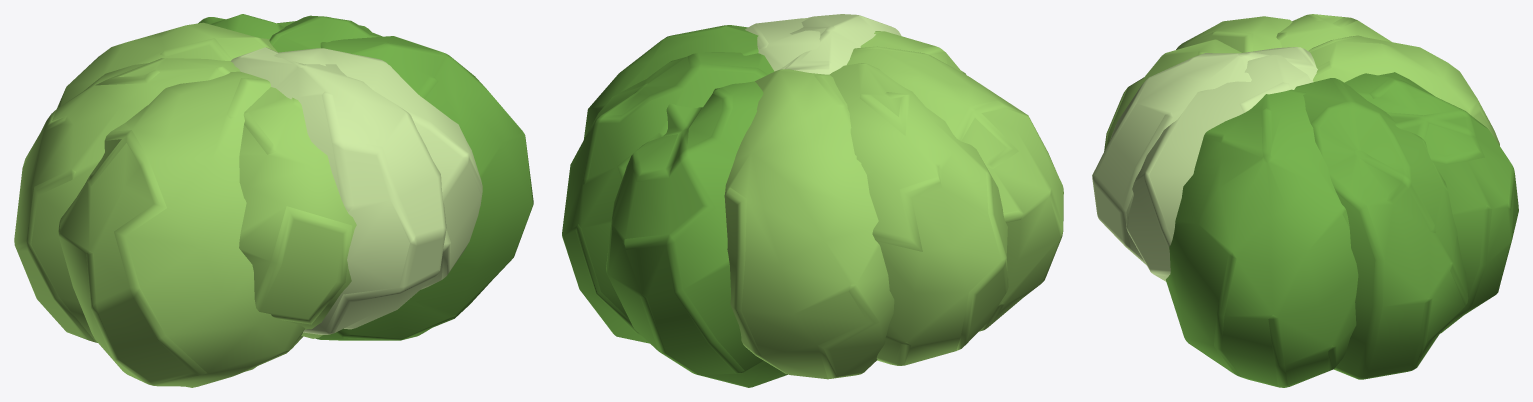
File: Lettuce.glb
3 views of the same model, side by side, from view 1: azimuth 30°, elevation 25°; view 2: azimuth 150°, elevation 25°; view 3: azimuth 270°, elevation 25° (orthographic). The views are drawn at different scales.
Visible parts, largest first — view 1: Lettuce; view 2: Lettuce; view 3: Lettuce.
Part boxes in pixels (x1,y1,x2,y2): Lettuce: (14, 14, 533, 387); Lettuce: (562, 14, 1063, 387); Lettuce: (1092, 14, 1518, 387).
Bounding box in the file's own units: 0.1845 × 0.1173 × 0.1628.
